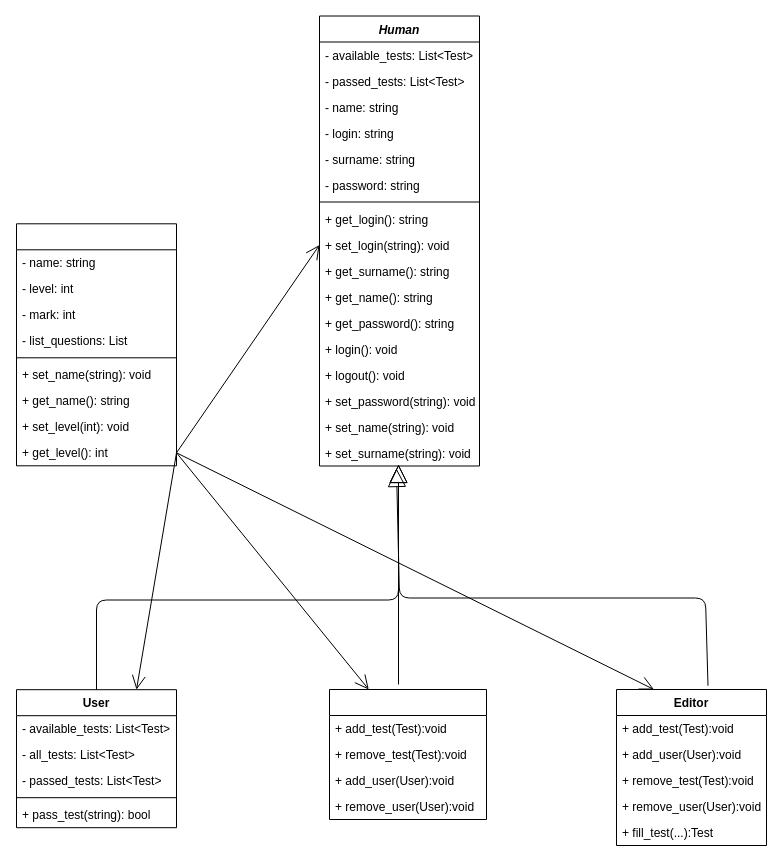
The diagram is 783 pixels wide and 862 high, and some of its shapes have lost their labels. The box of each missing label's shape, as (x1, y1, x2, y2) in pixels:
Admin: (328, 688, 486, 820)
Test: (16, 223, 176, 466)
